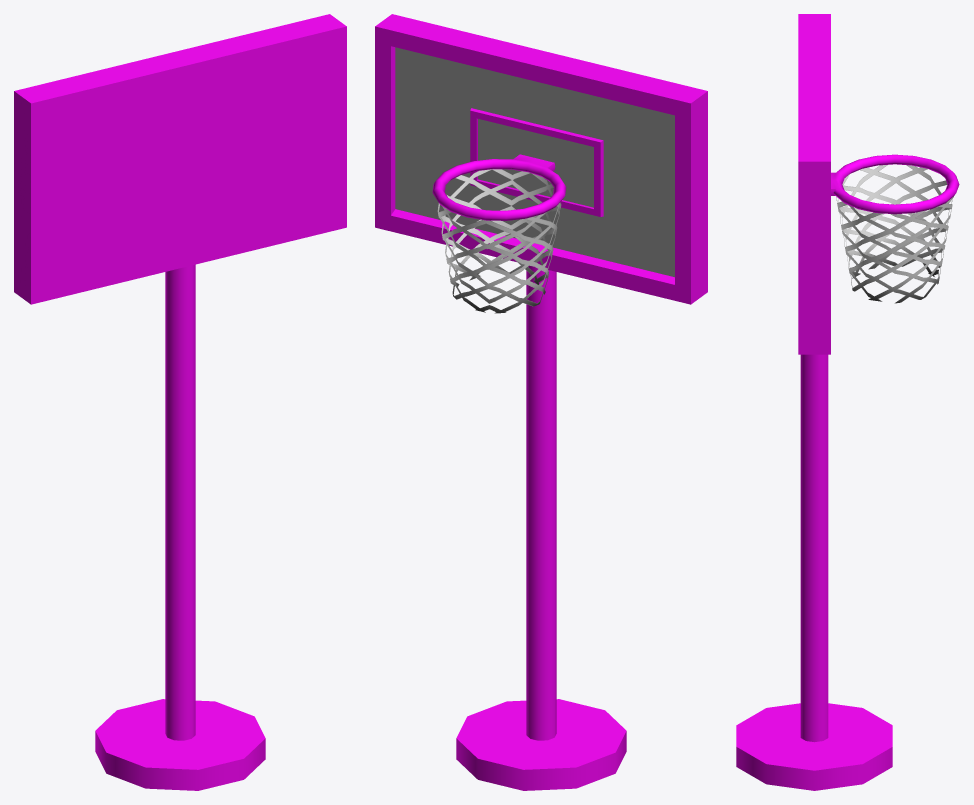
File: BasketballHoop.fbx
The picture shows the model from 3 angles, left to right: view 1: azimuth 30°, elevation 25°; view 2: azimuth 150°, elevation 25°; view 3: azimuth 270°, elevation 25°; orthographic projection. The views are drawn at different scales.
Visible parts, largest first — view 1: BasketballHoop; view 2: BasketballHoop; view 3: BasketballHoop.
Boxes of the visible parts, left/top/right/bottom form: BasketballHoop: left=14, top=14, right=346, bottom=790; BasketballHoop: left=375, top=14, right=707, bottom=790; BasketballHoop: left=736, top=14, right=959, bottom=790.
Size of the model in its own units: 3.73 by 7.87 by 2.38.
